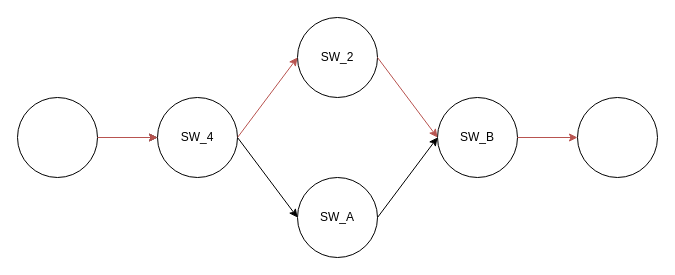
Some shapes in this 675 by 275 pixel diagram are drawn without their labels. Here are the shapes that lost their labels. From the top down, the centre of each, then its label:
At point (57, 137): "MCU-4".
At point (617, 137): "SGA".
